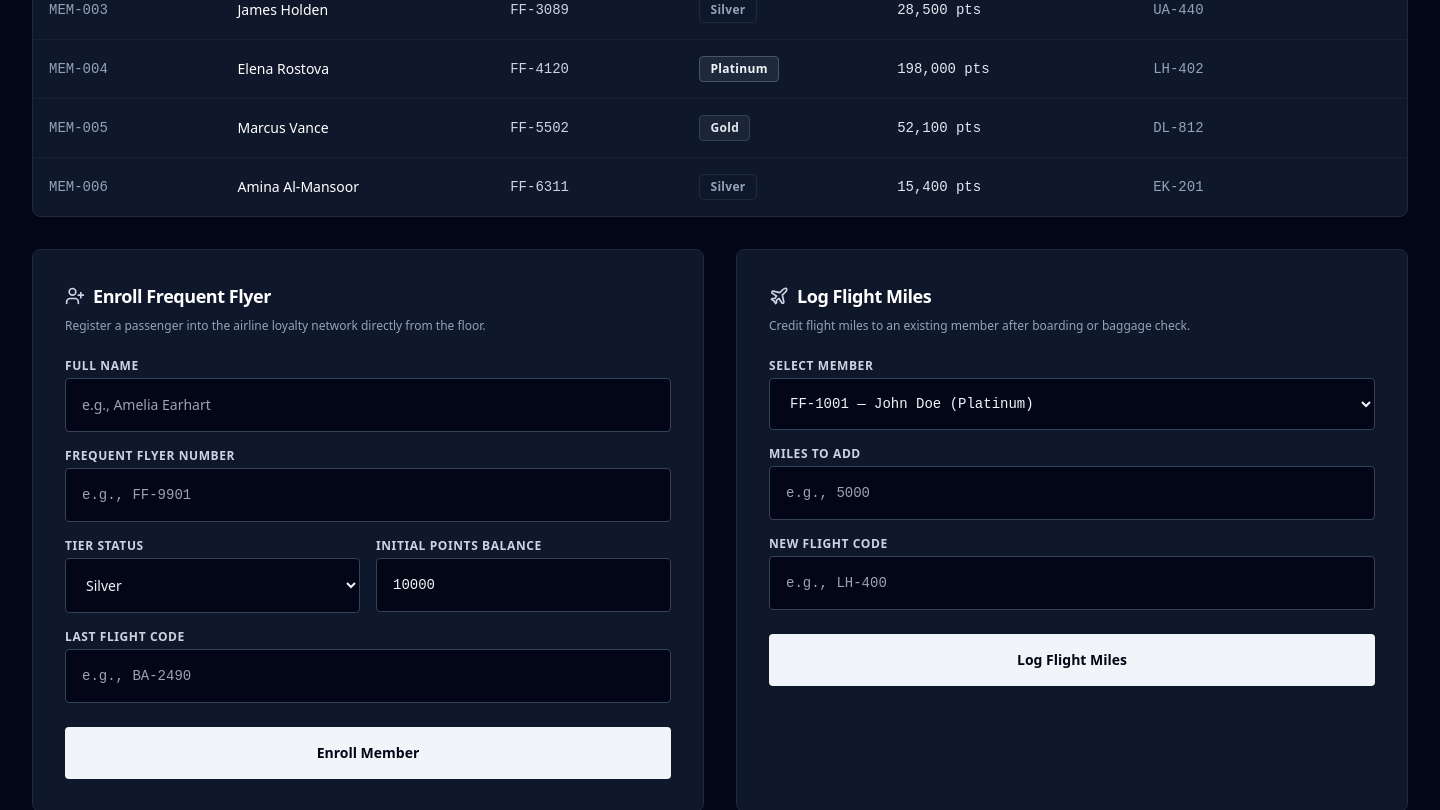
Ticket ENG-163087: Frequent Flyer Portal - Strict TDD Test Suite › 1. Happy Path & Core Floor Workflows › successfully enrolls a new Frequent Flyer member and updates roster and summary metrics
This screenshot has width=1440, height=810.
(page scrolled)
Step 1. Type "Amelia Earhart" into the field labelled "Full Name" → (368, 405), box [65,378,671,432]
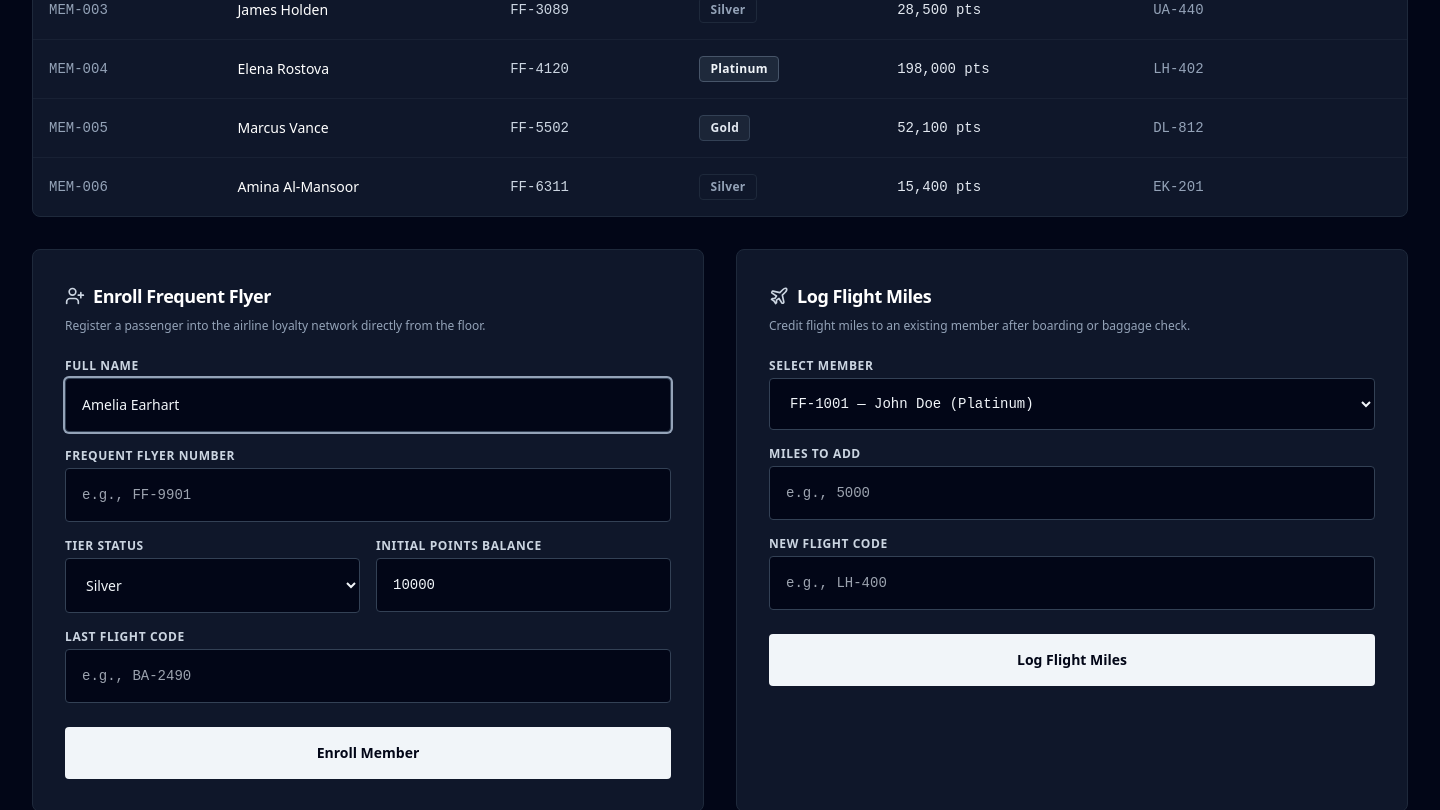
Step 2. Type "FF-9901" into the field labelled "Frequent Flyer Number" → (368, 495), box [65,468,671,522]
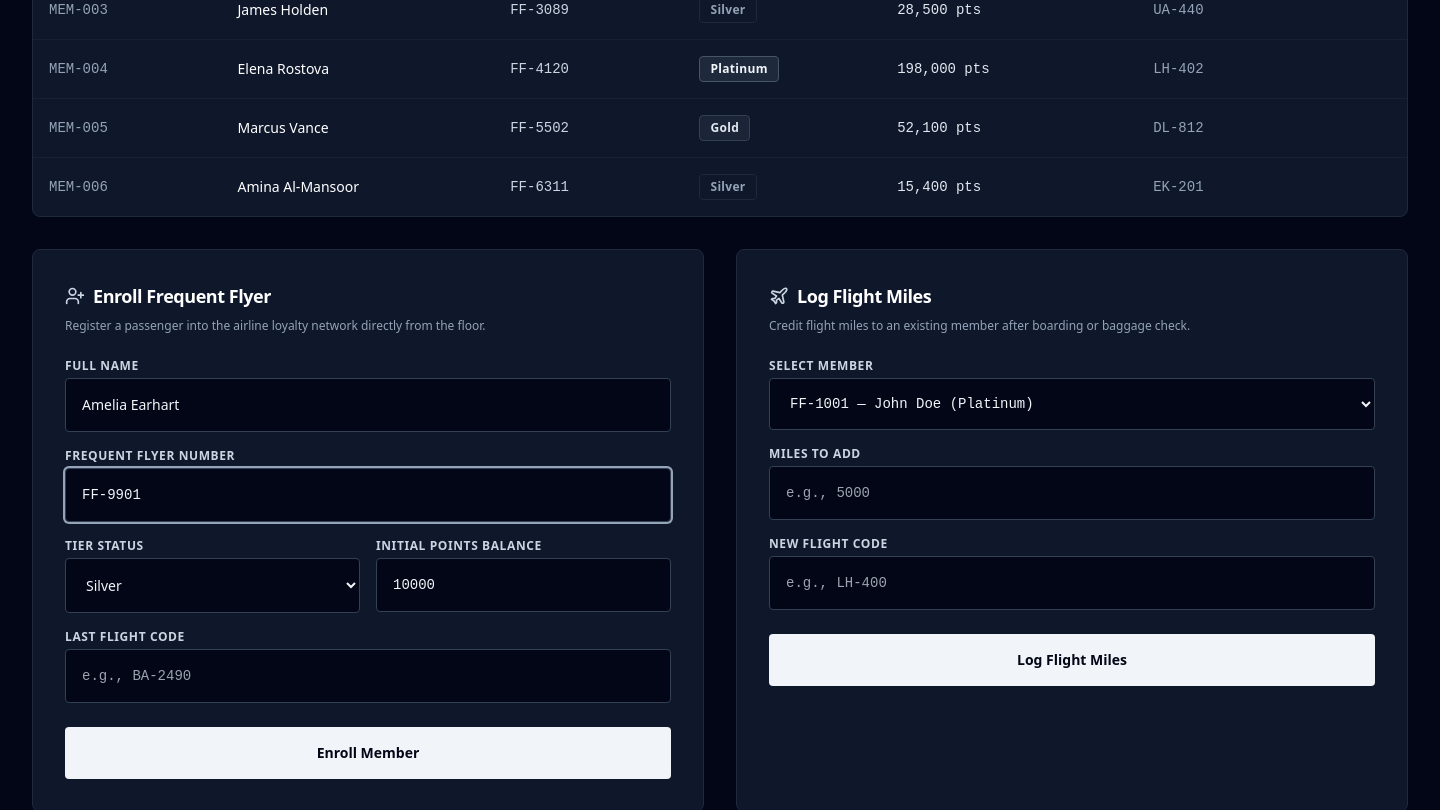
Step 3. Select "Gold" in the dropdown named "select tier status" → (212, 586), box [65,558,360,613]
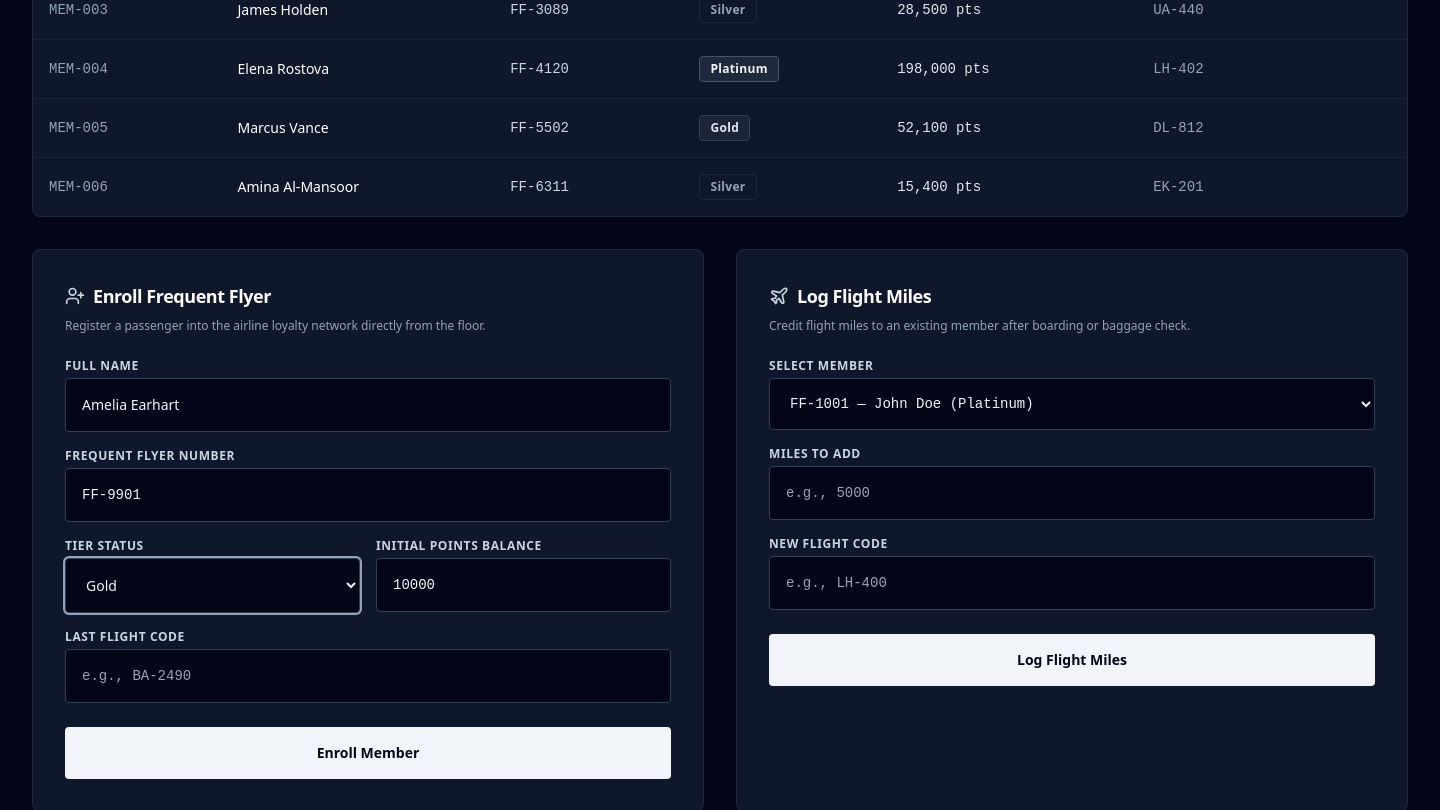
Step 4. Replace the text in the number field labelled "Initial Points Balance" with "45000" → (524, 585), box [376,558,671,612]
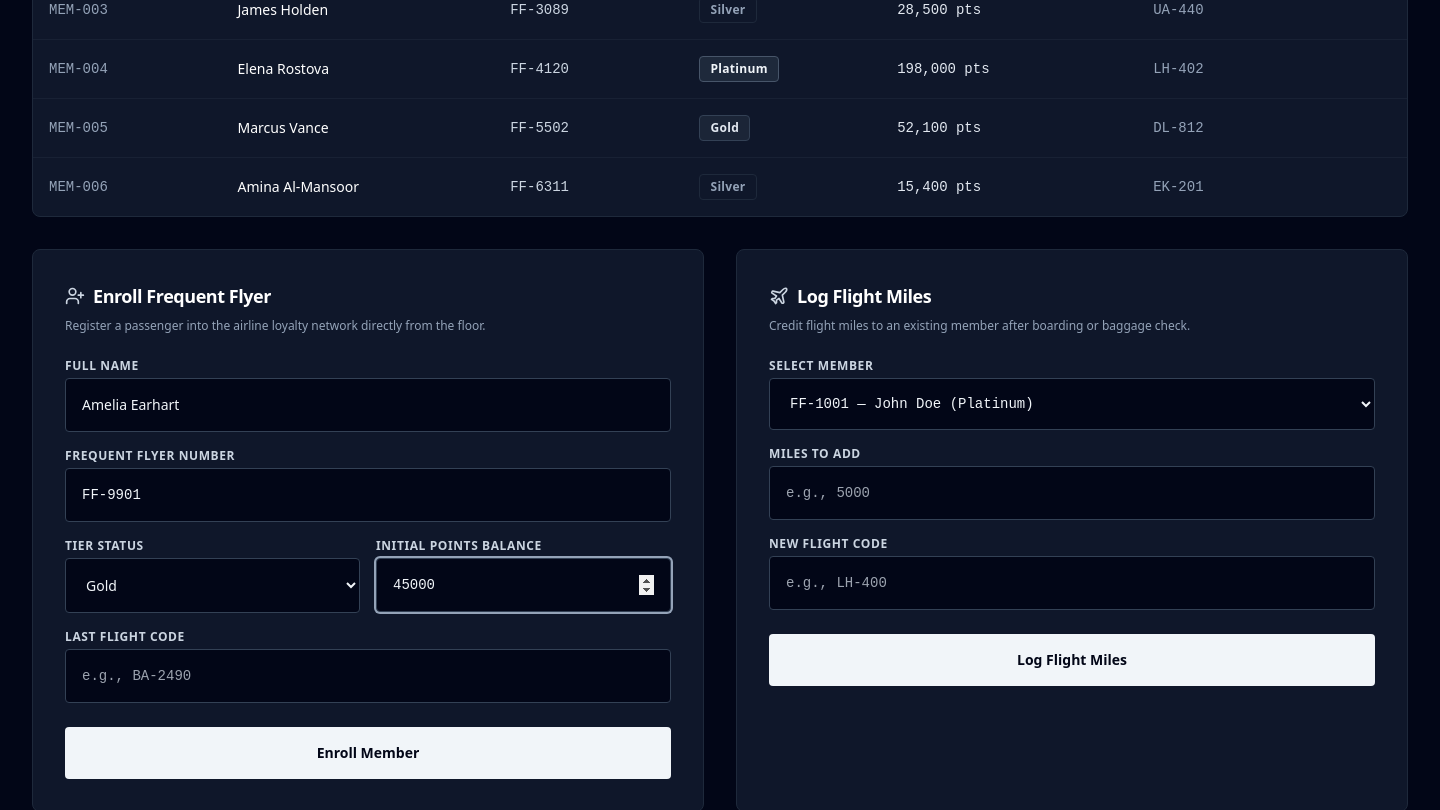
Step 5. Type "BA-2490" into the field labelled "Last Flight Code" → (368, 676), box [65,649,671,703]
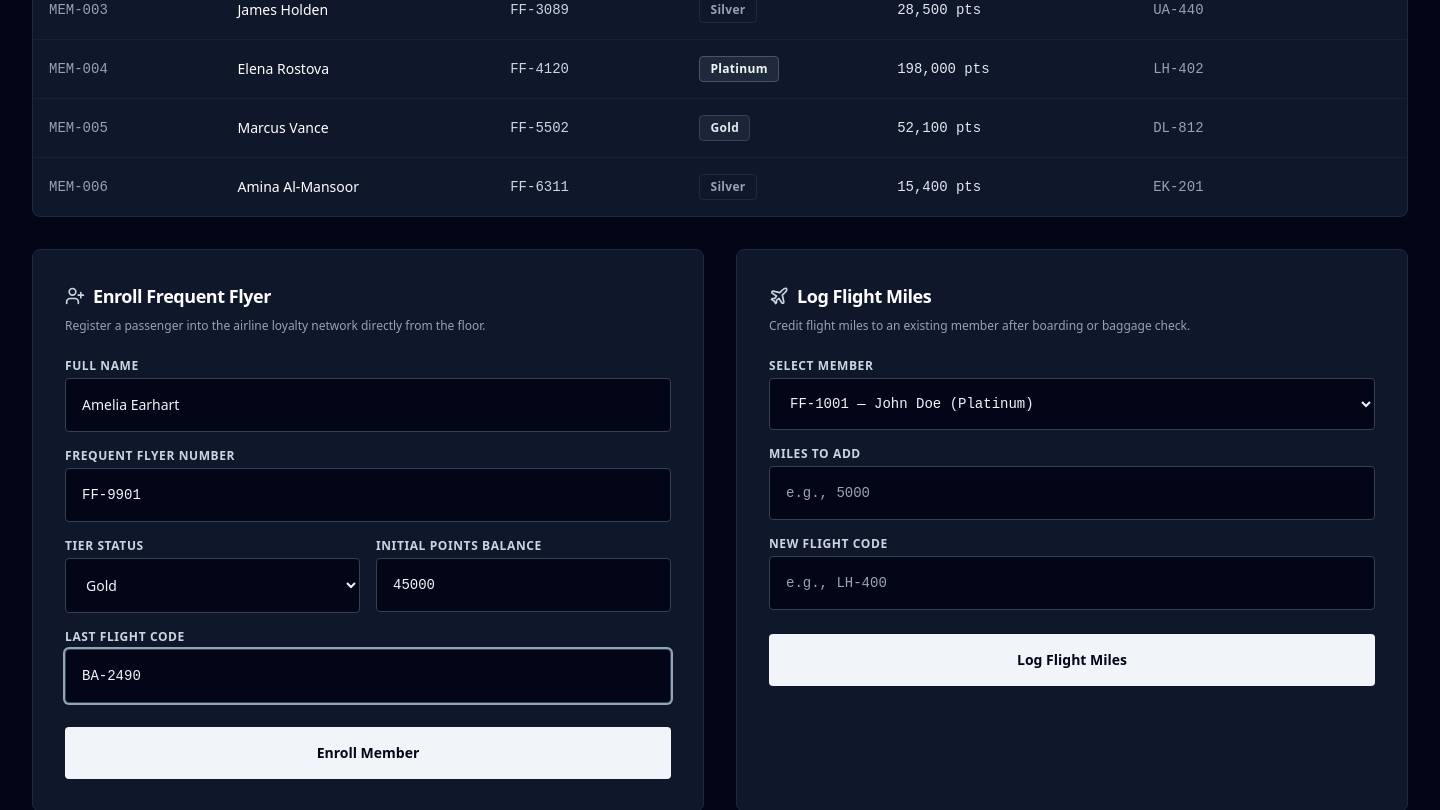
Step 6. Click the button "Enroll Member" → (368, 753), box [65,727,671,779]
(page scrolled)
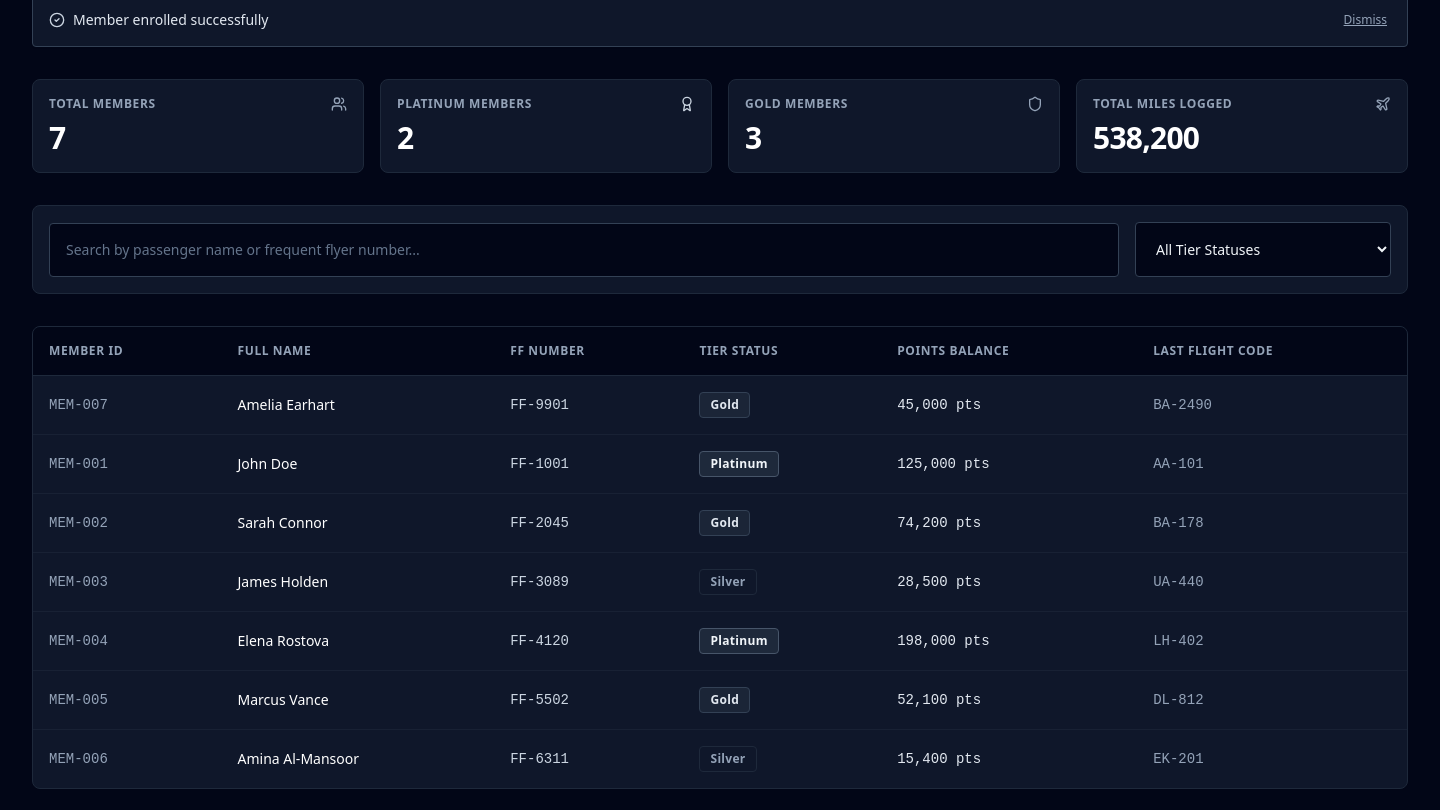
Check: the text "Amelia Earhart" is shown, box [222,376,494,434]
Check: the text "FF-9901" is shown, box [494,376,684,434]
